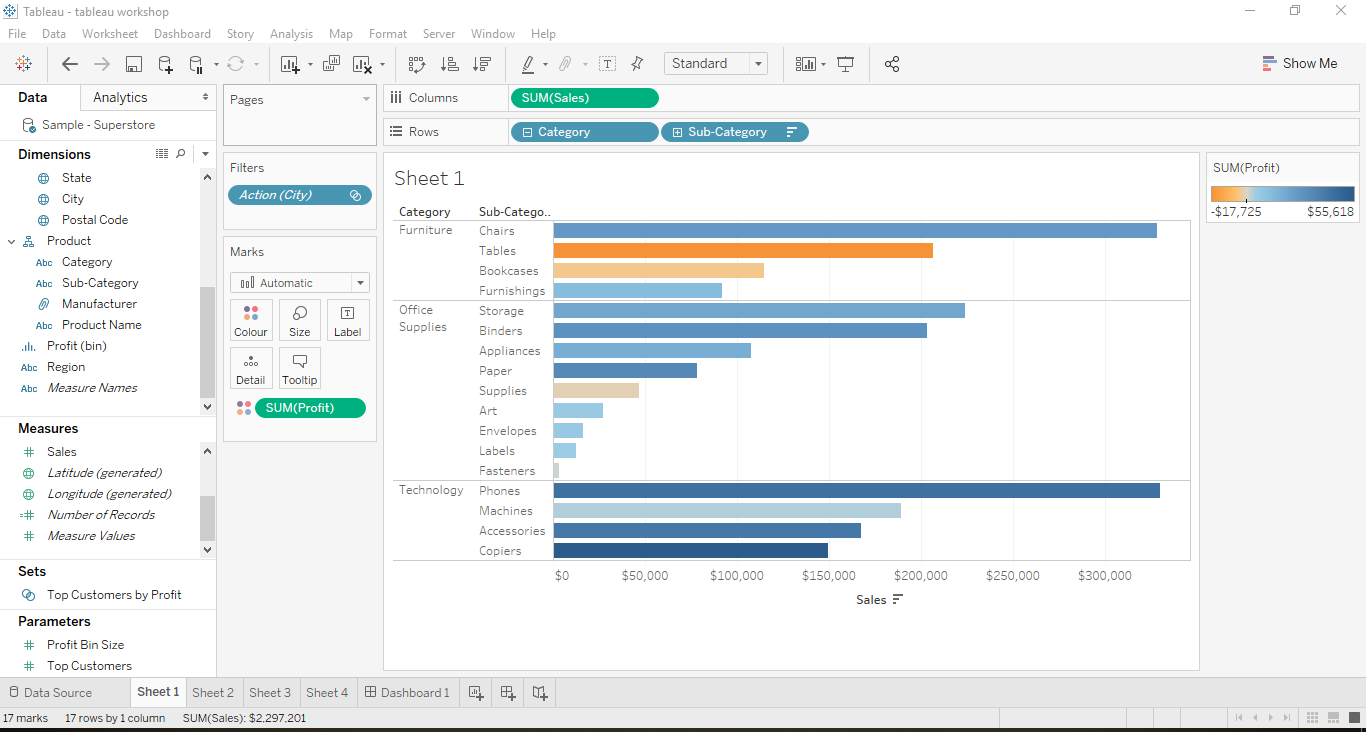

The page's visual inventory and layout, read from the dashboard file:
{"tool":"tableau","page":{"name":"Dashboard 1","canvas":[1000,1000],"units":"permille","ordinal":0},"visuals":[{"type":"worksheet","title":"Sheet 2","mark":"Automatic","box":[7,13.5,423.3,486.5]},{"type":"worksheet","title":"Sheet 4","mark":"Automatic","box":[430.3,13.5,423.4,278.7]},{"type":"legend","title":"Sheet 2","param":"[Sample - Superstore].[sum:Sales:qk]","box":[853.7,13.5,139.4,246.6]},{"type":"legend","title":"Sheet 2","param":"[Sample - Superstore].[sum:Profit:qk]","box":[853.7,260.1,139.4,109.8]},{"type":"worksheet","title":"Sheet 3","mark":"Line","rows":["Sales"],"cols":["Order Date"],"box":[430.3,292.2,423.4,694.3]},{"type":"worksheet","title":"Sheet 1","mark":"Automatic","rows":["Category","Sub-Category"],"cols":["Sales"],"box":[7,500,423.3,486.5]}]}

Visuals, with their boxes on the dashboard's canvas, which has no fixed pixel size, in thousandths of its width and height (x1, y1, x2, y2). These are canvas units, not pixel positions in the 1366x732 screenshot, which may show the page scaled, cropped or inside an application window:
"Sheet 2" worksheet: 7:14:430:500
"Sheet 4" worksheet: 430:14:854:292
"Sheet 2" legend: 854:14:993:260
"Sheet 2" legend: 854:260:993:370
"Sheet 3" worksheet (Line marks): 430:292:854:986
"Sheet 1" worksheet: 7:500:430:986
